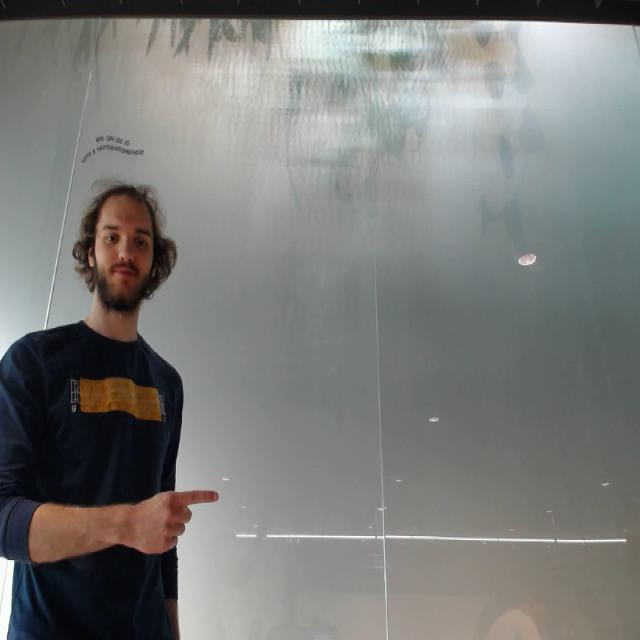right: (124, 484, 224, 558)
